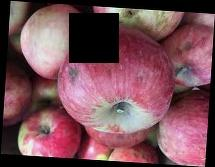rotten apple: (52, 29, 171, 133), (161, 25, 212, 88), (90, 9, 183, 41)
